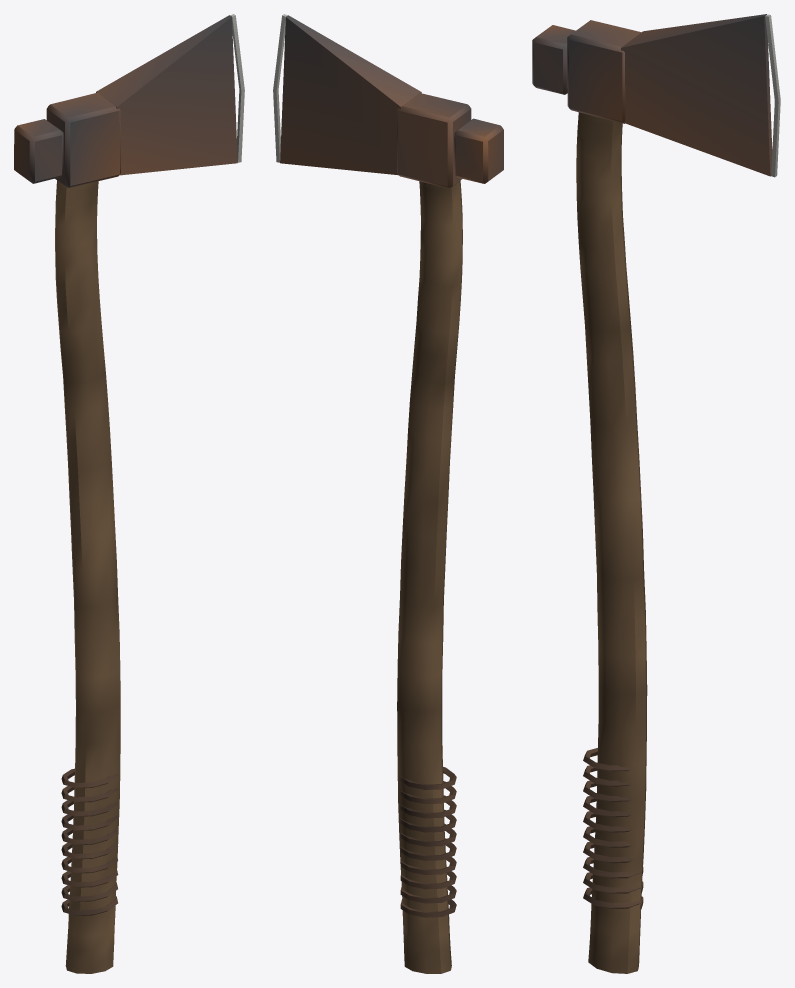
File: wood-axe.glb
3 views of the same model, side by side, from view 1: azimuth 30°, elevation 25°; view 2: azimuth 150°, elevation 25°; view 3: azimuth 330°, elevation 25° (orthographic). The views are drawn at different scales.
Visible parts, largest first — view 1: wood-axe; view 2: wood-axe; view 3: wood-axe.
Boxes of the visible parts, <box> form: wood-axe: <box>14,14,244,973</box>; wood-axe: <box>273,14,503,973</box>; wood-axe: <box>532,14,780,973</box>.
Bounding box in the file's own units: 0.1966 × 0.7762 × 0.035.
